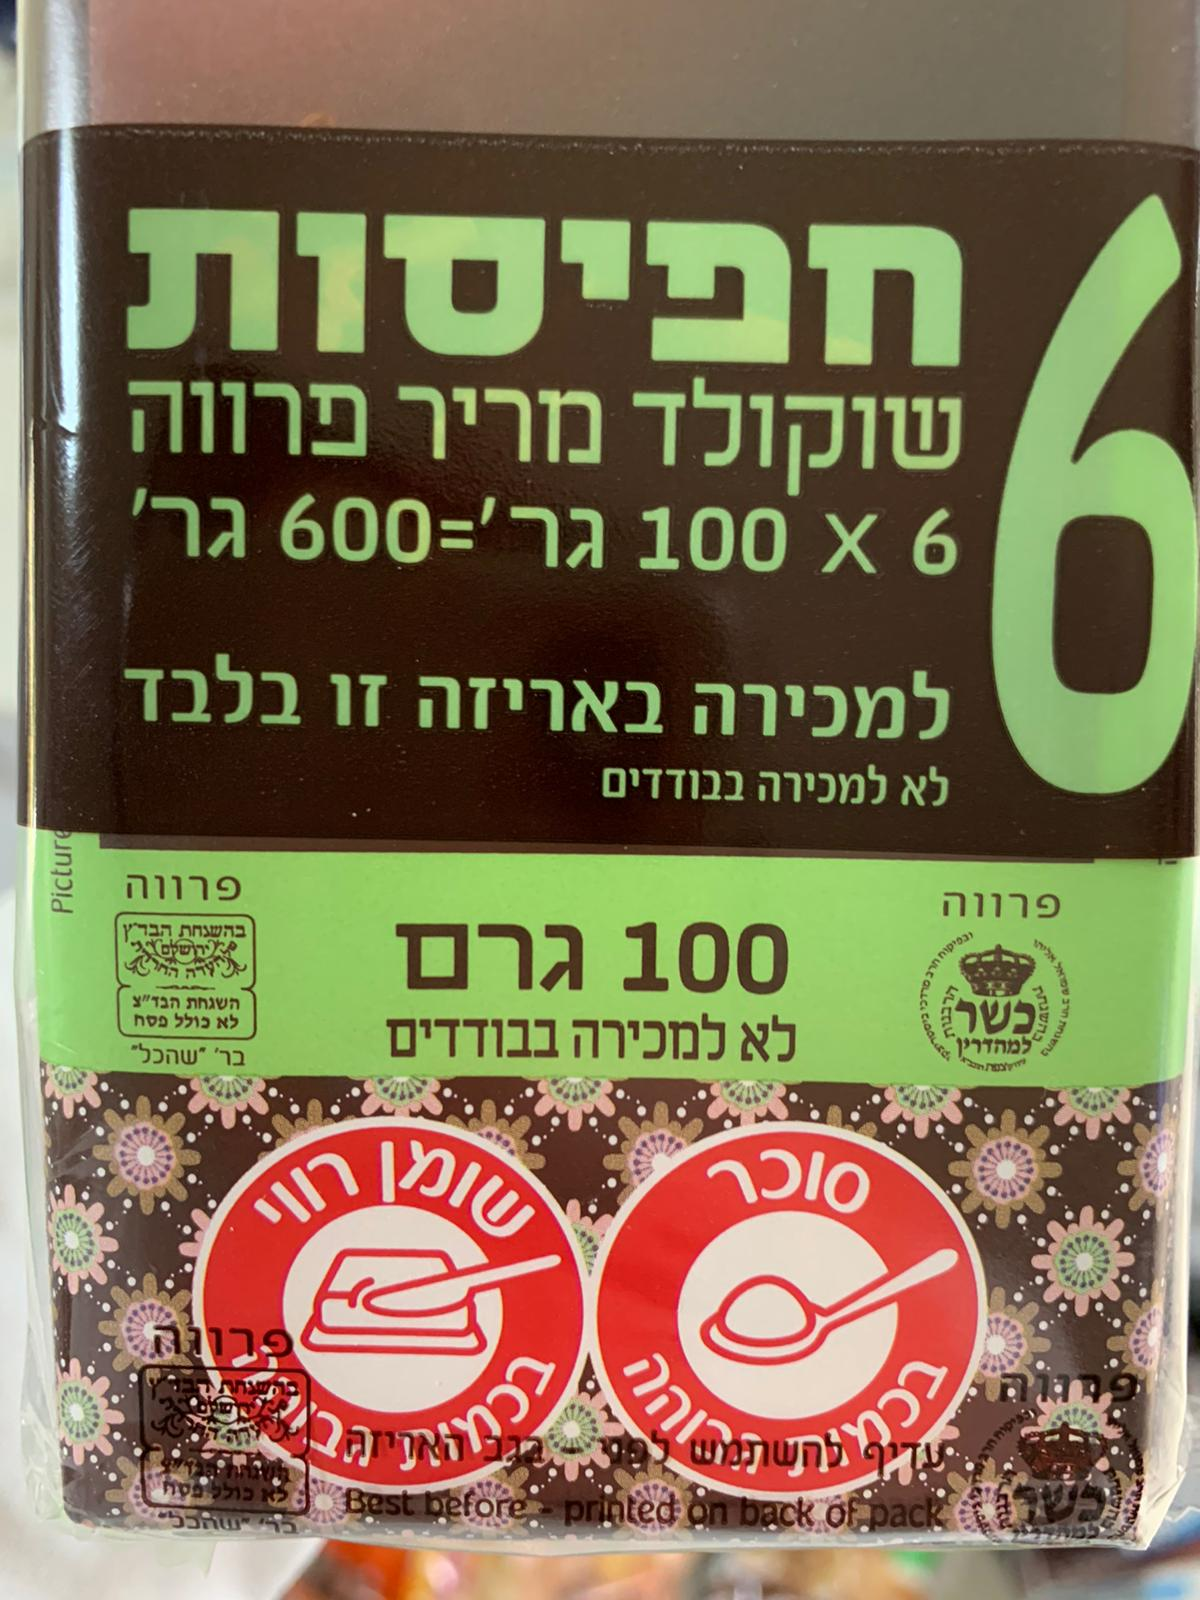fat: (187, 1115, 586, 1490)
sugar: (586, 1123, 984, 1506)
